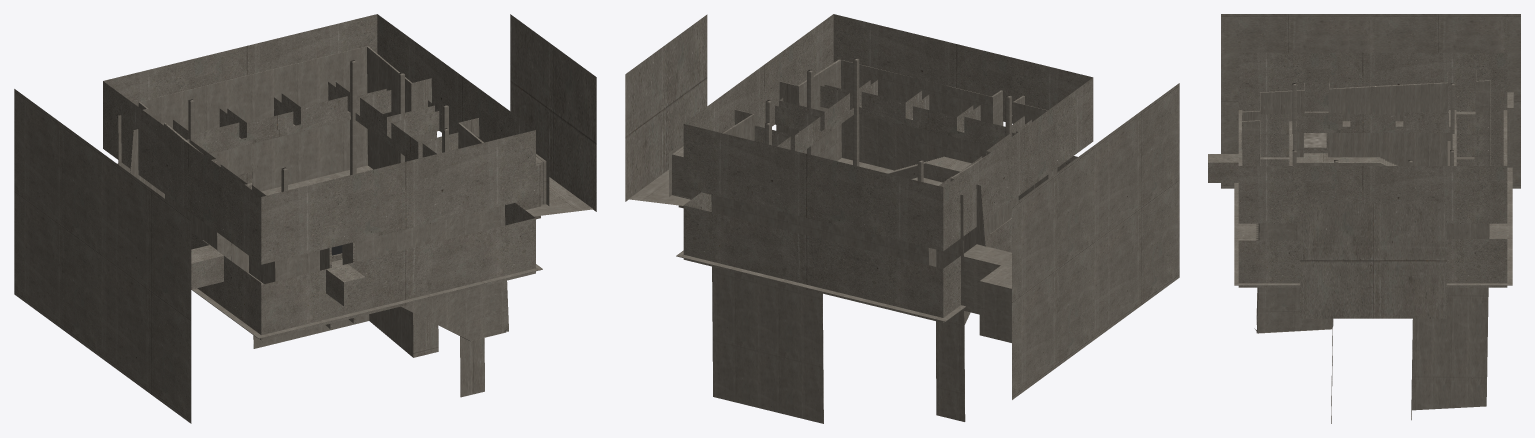
File: 3drop_gallery_v18.glb
3 renders of one model, left to right at view 1: azimuth 30°, elevation 25°; view 2: azimuth 150°, elevation 25°; view 3: azimuth 270°, elevation 25°, orthographic. The views are drawn at different scales.
Visible parts, largest first — view 1: frameConcreteExternal, frameVisitableZoneSuround, ctrlPlateformConcrete_grndPhys, suroundConcretePillars02; view 2: frameConcreteExternal, frameVisitableZoneSuround, ctrlPlateformConcrete_grndPhys, stairsPath, entranceLobbyConcrete, suroundConcretePillars05; view 3: frameConcreteExternal, frameVisitableZoneSuround, ctrlPlateformConcrete_grndPhys, stairsPath, suroundConcretePillars06, suroundConcretePillars01.
Boxes of the visible parts, x1,y1,x2,y2 form: frameConcreteExternal: (14,14,540,423); frameVisitableZoneSuround: (118,46,508,397); ctrlPlateformConcrete_grndPhys: (191,14,596,338); suroundConcretePillars02: (350,60,356,175); frameConcreteExternal: (678,14,1179,399); frameVisitableZoneSuround: (711,59,1057,423); ctrlPlateformConcrete_grndPhys: (625,14,965,321); stairsPath: (888,156,1011,233); entranceLobbyConcrete: (669,142,700,199); suroundConcretePillars05: (853,58,859,166); frameConcreteExternal: (1208,14,1520,287); frameVisitableZoneSuround: (1241,70,1490,423); ctrlPlateformConcrete_grndPhys: (1234,167,1512,318); stairsPath: (1256,153,1397,240); suroundConcretePillars06: (1292,83,1296,149); suroundConcretePillars01: (1450,83,1454,149).
Size of the model in its own units: 132 by 85.94 by 93.12.
2 materials, 2 textured.
